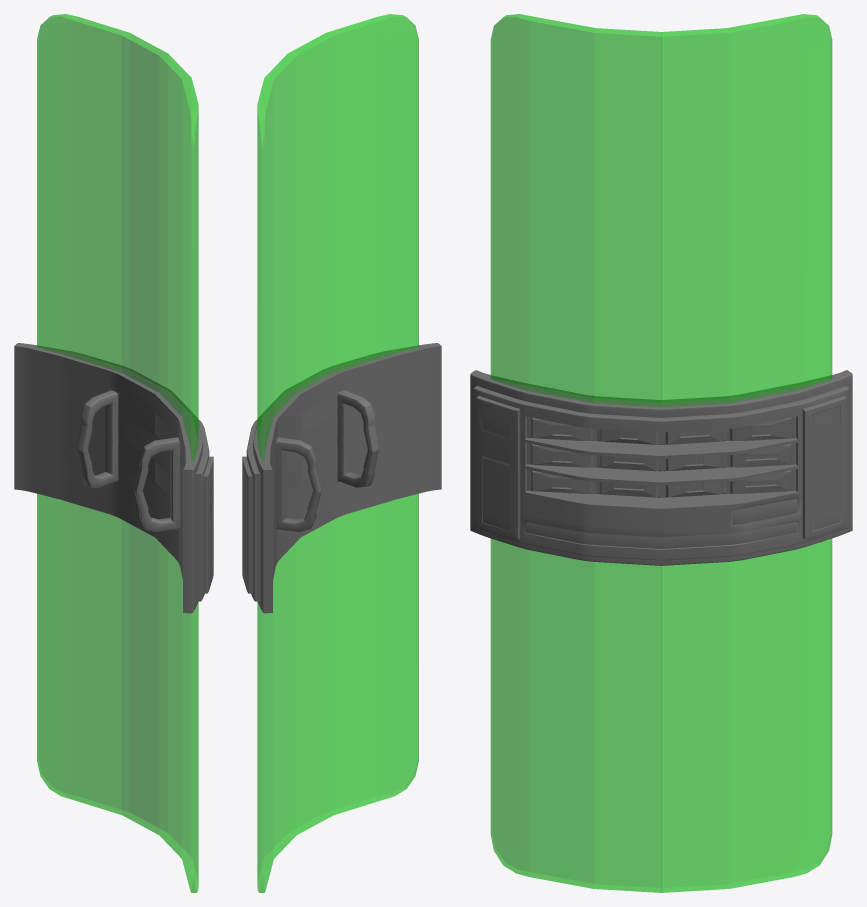
File: Shield.fbx
3 renders of one model, left to right at view 1: azimuth 30°, elevation 25°; view 2: azimuth 150°, elevation 25°; view 3: azimuth 270°, elevation 25°, orthographic. The views are drawn at different scales.
Visible parts, largest first — view 1: UpperG_ass, LowerGlass, Brace; view 2: UpperG_ass, LowerGlass, Brace; view 3: UpperG_ass, LowerGlass, Brace.
Part boxes in pixels (bbox=[...]): UpperG_ass: bbox=[37, 14, 198, 460]; LowerGlass: bbox=[37, 494, 198, 892]; Brace: bbox=[14, 343, 213, 613]; UpperG_ass: bbox=[257, 14, 418, 460]; LowerGlass: bbox=[257, 494, 418, 892]; Brace: bbox=[242, 343, 441, 613]; UpperG_ass: bbox=[490, 14, 832, 407]; LowerGlass: bbox=[490, 538, 832, 892]; Brace: bbox=[470, 370, 852, 565].
Bounding box in the file's own units: 0.502 × 4.72 × 1.91.
